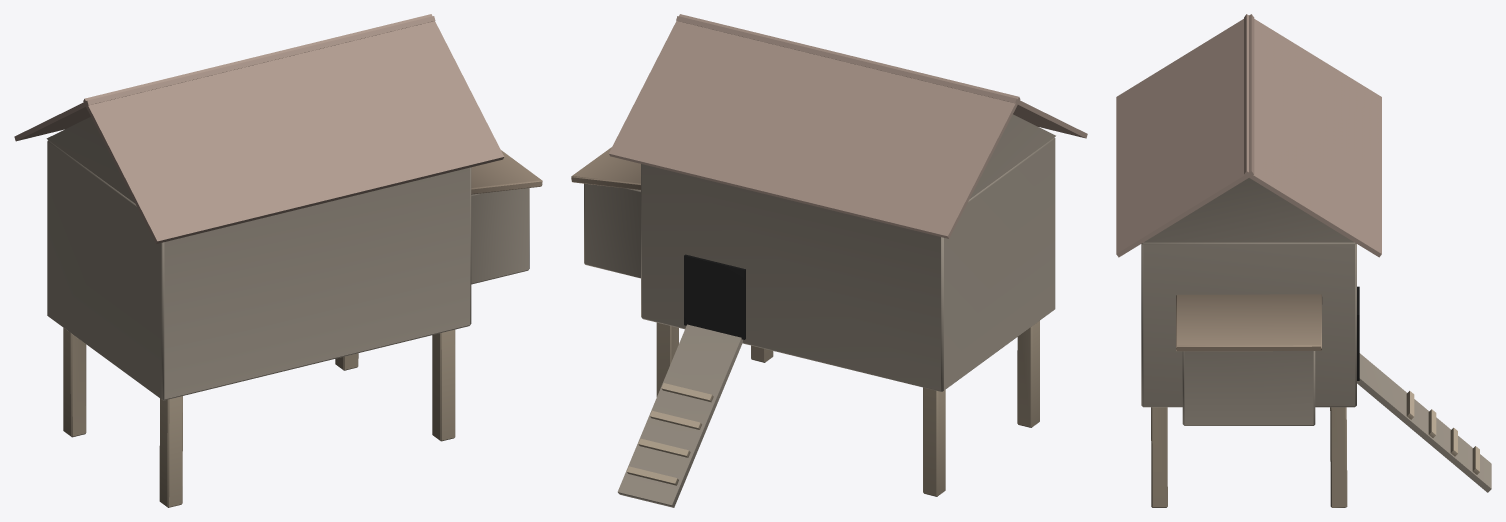
Rendered from hen_coop.glb.
The picture shows the model from 3 angles, left to right: view 1: azimuth 30°, elevation 25°; view 2: azimuth 150°, elevation 25°; view 3: azimuth 270°, elevation 25°; orthographic projection. The views are drawn at different scales.
Visible parts, largest first — view 1: static; view 2: static; view 3: static.
Boxes of the visible parts, <box> form: static: <box>14,14,542,507</box>; static: <box>571,14,1087,507</box>; static: <box>1116,14,1491,507</box>.
Size of the model in its own units: 1.35 by 1.17 by 1.13.
